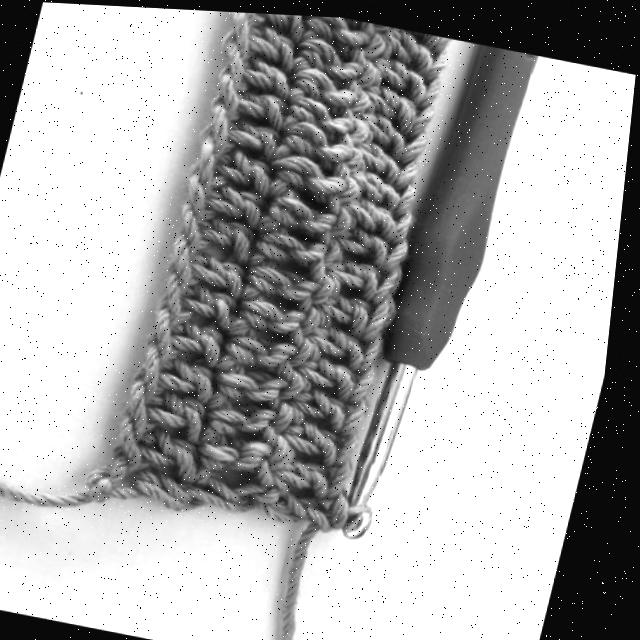ch: (94, 455, 138, 503), (125, 413, 150, 469), (181, 194, 204, 254), (133, 377, 153, 444), (221, 30, 244, 87), (216, 63, 239, 118), (174, 232, 195, 291), (211, 94, 230, 159), (188, 160, 209, 218), (149, 331, 167, 398), (200, 127, 218, 187), (231, 9, 249, 56), (163, 291, 173, 345), (171, 310, 176, 350)
dc: (285, 119, 369, 175), (208, 434, 301, 483), (261, 228, 341, 284), (354, 105, 430, 162), (249, 260, 343, 305), (211, 145, 297, 194), (291, 63, 375, 113), (153, 393, 236, 443), (276, 152, 345, 212), (215, 401, 312, 442), (292, 93, 374, 141), (299, 38, 382, 85), (365, 82, 437, 136), (318, 290, 397, 339), (183, 283, 260, 333), (143, 429, 220, 479), (176, 315, 248, 368), (241, 299, 336, 339), (301, 12, 388, 55), (165, 356, 239, 406), (209, 184, 287, 231), (339, 194, 416, 241), (313, 323, 389, 370), (373, 52, 438, 105), (202, 216, 275, 263), (332, 255, 405, 302), (335, 225, 411, 270), (297, 386, 373, 431), (301, 359, 384, 400), (224, 370, 319, 405), (195, 252, 267, 298), (292, 420, 366, 464), (272, 194, 340, 241), (381, 25, 447, 73), (140, 466, 214, 508), (351, 166, 420, 211), (356, 137, 423, 183), (248, 25, 310, 73), (279, 455, 358, 492), (240, 53, 304, 98), (234, 339, 326, 367), (232, 118, 295, 156), (236, 89, 299, 125), (250, 10, 316, 38), (413, 27, 448, 48)
